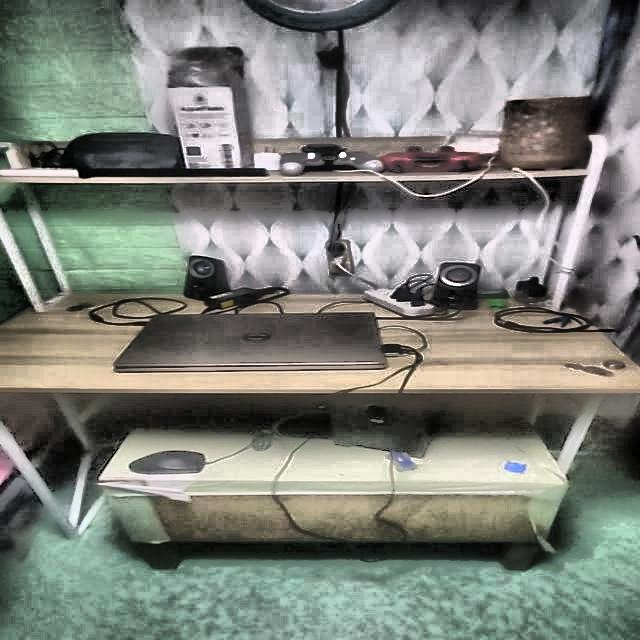mesa: (0, 289, 640, 582)
